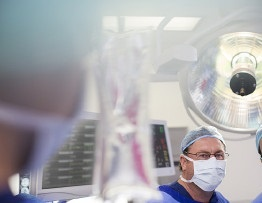Mask: (189, 147, 230, 188)
